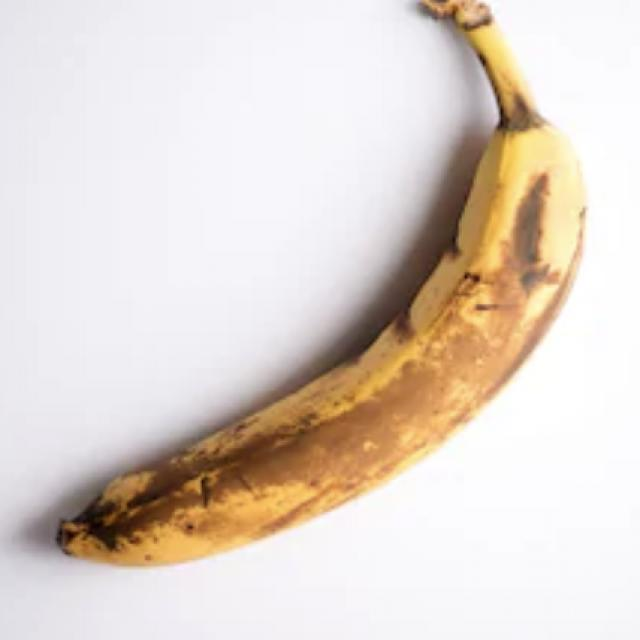rotten-banana: (49, 5, 588, 569)
